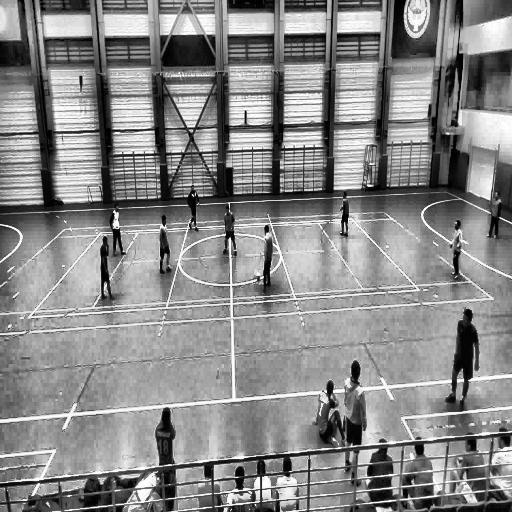ball: (256, 271, 262, 281)
player: (444, 309, 480, 411), (342, 359, 366, 483), (154, 407, 176, 504), (108, 201, 127, 258), (100, 235, 115, 300), (262, 224, 275, 291), (222, 204, 238, 256), (159, 214, 173, 273), (450, 219, 463, 278), (486, 190, 501, 240), (187, 186, 200, 231), (339, 190, 349, 238)
